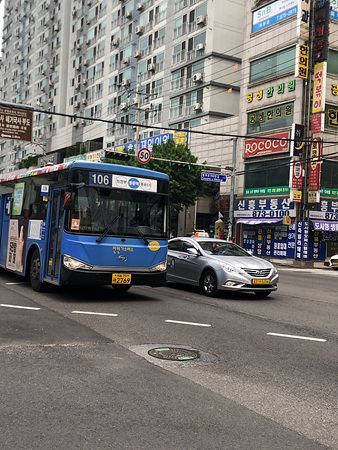bnum: (90, 170, 111, 186)
